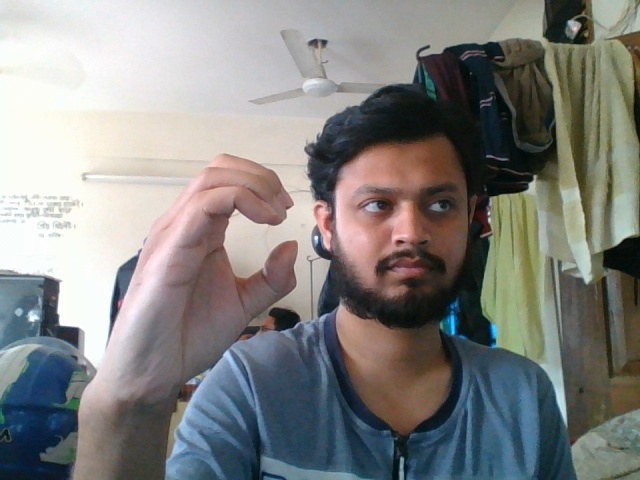ka: (93, 150, 304, 409)
